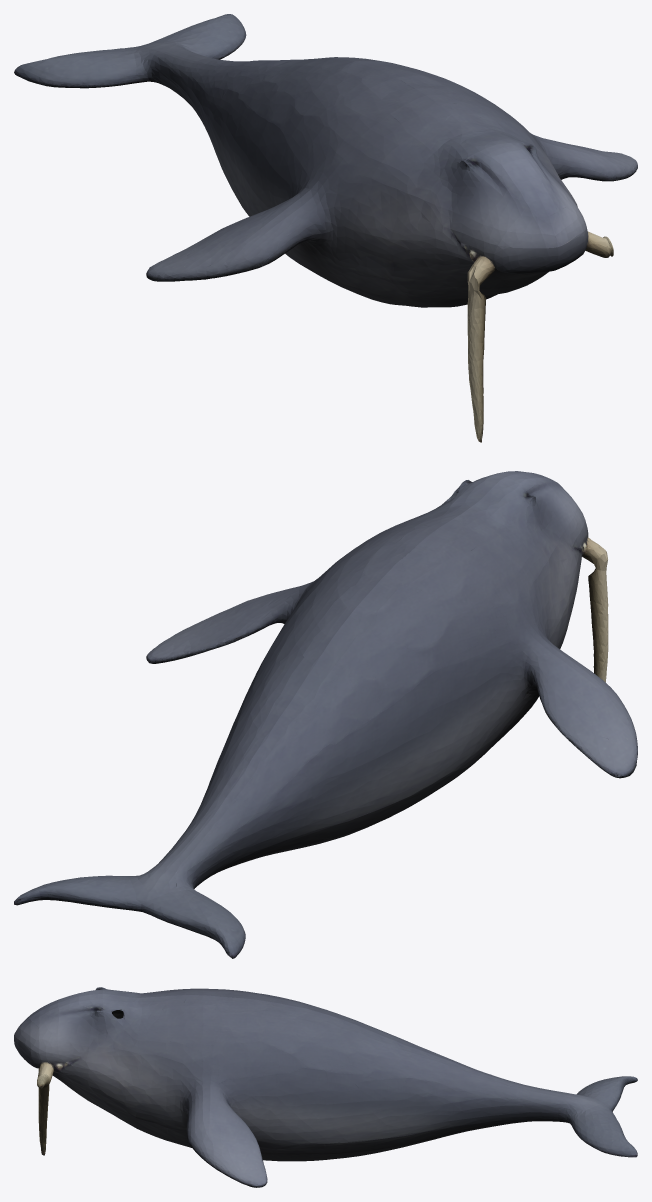
The picture shows the model from 3 angles, top to bottom: view 1: azimuth 30°, elevation 25°; view 2: azimuth 150°, elevation 25°; view 3: azimuth 270°, elevation 25°; orthographic projection. The views are drawn at different scales.
Parts seen in each view (by area): view 1: world; view 2: world; view 3: world.
Boxes of the visible parts, left/top/right/bottom form: world: left=14, top=14, right=637, bottom=442; world: left=14, top=471, right=637, bottom=958; world: left=14, top=987, right=637, bottom=1187.
Size of the model in its own units: 1.66 by 0.8352 by 2.6.
Materials: 1 (1 with a texture image).
